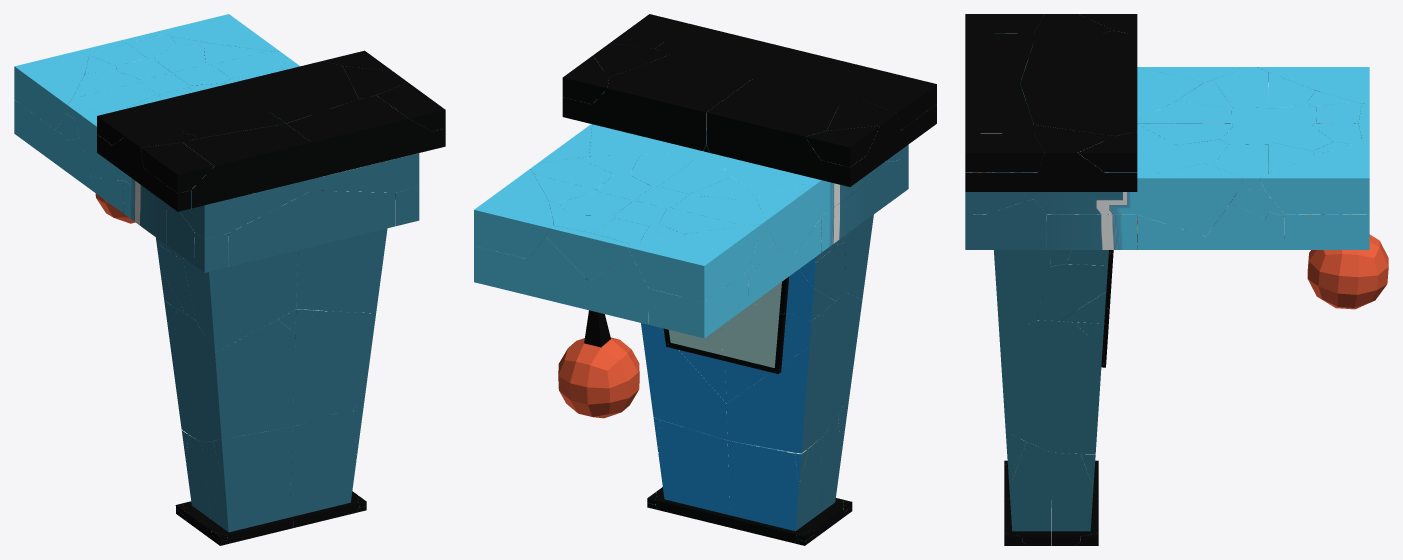
Rendered from BoksTorbasiCellFrac.fbx.
3 views of the same model, side by side, from view 1: azimuth 30°, elevation 25°; view 2: azimuth 150°, elevation 25°; view 3: azimuth 270°, elevation 25° (orthographic). The views are drawn at different scales.
Visible parts, largest first — view 1: Roundcube_cell.060, Roundcube_cell.044, Roundcube_cell.049, Roundcube_cell.043, Roundcube_cell.048, Roundcube_cell.059, Roundcube_cell.061, Roundcube_cell.058, Roundcube_cell.032, Roundcube_cell.031, Roundcube_cell.056, Roundcube_cell.050 (+27 smaller); view 2: Roundcube_cell.032, Roundcube_cell.031, Roundcube_cell.060, Roundcube_cell.071, Roundcube_cell.056, Roundcube_cell.068, Roundcube.001, Roundcube_cell.073, Roundcube_cell.061, Roundcube_cell.055, Roundcube_cell.037, Roundcube_cell.057 (+37 smaller); view 3: Roundcube_cell.061, Roundcube_cell.032, Roundcube_cell.031, Roundcube_cell.043, Roundcube_cell.034, Roundcube_cell.055, Roundcube_cell.047, Roundcube_cell.048, Roundcube.001, Roundcube_cell.058, Roundcube_cell.068, Roundcube_cell.046 (+33 smaller).
Part boxes in pixels (x1=…): Roundcube_cell.060: x1=167, y1=309, x2=295, y2=442; Roundcube_cell.044: x1=166, y1=190, x2=311, y2=352; Roundcube_cell.049: x1=180, y1=123, x2=311, y2=239; Roundcube_cell.043: x1=296, y1=190, x2=395, y2=313; Roundcube_cell.048: x1=286, y1=95, x2=432, y2=192; Roundcube_cell.059: x1=198, y1=427, x2=293, y2=543; Roundcube_cell.061: x1=292, y1=310, x2=375, y2=426; Roundcube_cell.058: x1=283, y1=408, x2=358, y2=527; Roundcube_cell.032: x1=125, y1=83, x2=285, y2=145; Roundcube_cell.031: x1=231, y1=61, x2=358, y2=130; Roundcube_cell.056: x1=14, y1=49, x2=88, y2=129; Roundcube_cell.050: x1=112, y1=116, x2=198, y2=210; Roundcube_cell.032: x1=706, y1=69, x2=843, y2=197; Roundcube_cell.031: x1=589, y1=53, x2=764, y2=155; Roundcube_cell.060: x1=726, y1=292, x2=862, y2=453; Roundcube_cell.071: x1=726, y1=436, x2=828, y2=543; Roundcube_cell.056: x1=628, y1=224, x2=761, y2=302; Roundcube_cell.068: x1=655, y1=420, x2=729, y2=526; Roundcube.001: x1=558, y1=310, x2=639, y2=418; Roundcube_cell.073: x1=721, y1=303, x2=826, y2=402; Roundcube_cell.061: x1=641, y1=323, x2=727, y2=440; Roundcube_cell.055: x1=474, y1=169, x2=553, y2=259; Roundcube_cell.037: x1=756, y1=155, x2=866, y2=264; Roundcube_cell.057: x1=649, y1=270, x2=748, y2=338; Roundcube_cell.061: x1=999, y1=320, x2=1103, y2=453; Roundcube_cell.032: x1=1020, y1=31, x2=1203, y2=120; Roundcube_cell.031: x1=1020, y1=83, x2=1203, y2=177; Roundcube_cell.043: x1=986, y1=199, x2=1050, y2=339; Roundcube_cell.034: x1=1104, y1=163, x2=1243, y2=236; Roundcube_cell.055: x1=1259, y1=141, x2=1369, y2=213; Roundcube_cell.047: x1=1034, y1=125, x2=1135, y2=213; Roundcube_cell.048: x1=965, y1=83, x2=1033, y2=213; Roundcube.001: x1=1307, y1=234, x2=1388, y2=309; Roundcube_cell.058: x1=1004, y1=442, x2=1051, y2=545; Roundcube_cell.068: x1=1051, y1=452, x2=1098, y2=545; Roundcube_cell.046: x1=1046, y1=214, x2=1137, y2=266.
Size of the model in its own units: 578 by 824 by 745.
